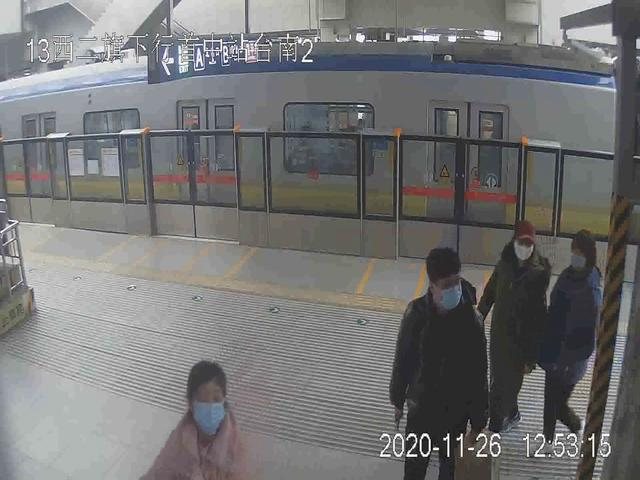person: (395, 240, 486, 480), (482, 219, 546, 436), (544, 229, 606, 445), (143, 357, 246, 480)
